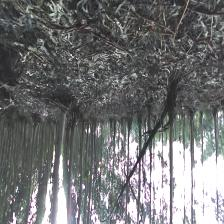trunk: (128, 106, 167, 181), (51, 107, 67, 214), (67, 115, 77, 213), (167, 115, 175, 201), (29, 124, 38, 182), (188, 116, 194, 170)
